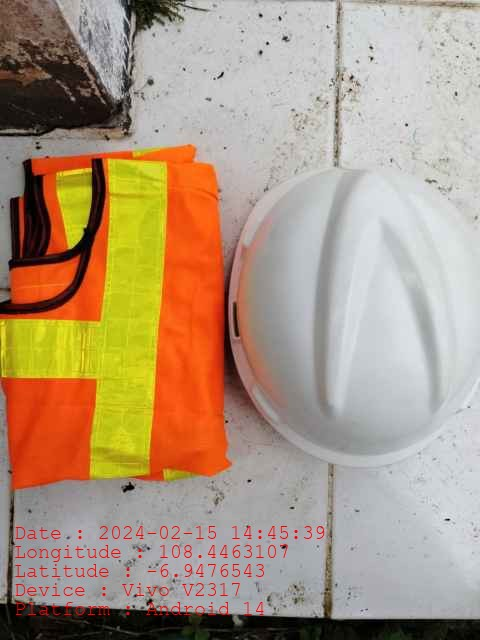HELM: (229, 167, 480, 469)
ROMPI: (1, 150, 228, 485)
